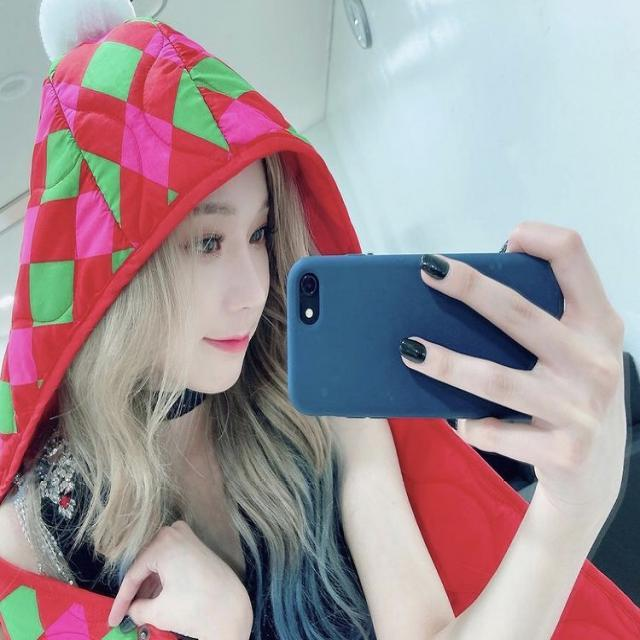phone: (288, 254, 564, 419)
